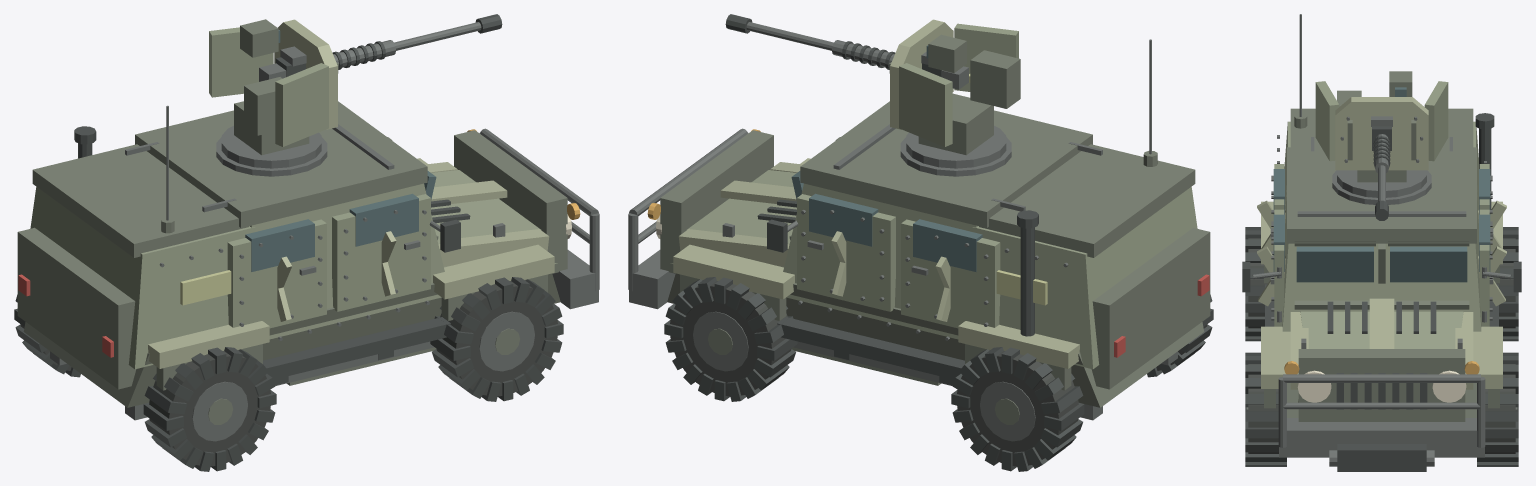
Rendered from aegis_hmmwv50_v2.glb.
The picture shows the model from 3 angles, left to right: view 1: azimuth 30°, elevation 25°; view 2: azimuth 150°, elevation 25°; view 3: azimuth 270°, elevation 25°; orthographic projection. The views are drawn at different scales.
Visible parts, largest first — view 1: RoofFront, RearBody, RoofRear, RearPlate, LowerTub, DoorPanel_FR, DoorPanel_RR, FrontFace, RockerStep_R, Tire_RR, GunShield_R, Tire_FR (+25 smaller); view 2: RoofFront, RoofRear, RearBody, RearPlate, LowerTub, DoorPanel_FL, DoorPanel_RL, FrontFace, RockerStep_L, Tire_RL, GunShield_L, Tire_FL (+26 smaller); view 3: RoofFront, FrontFace, CabinCore, FrontBumper, GunShieldFront, HoodMain, Windshield_L, Windshield_R, BumperCenter, RoofRear, BrushTop, FenderTop_L_1 (+44 smaller).
Part boxes in pixels (x1,y1,x2,y2): RoofFront: (135,101,427,227); RearBody: (30,187,255,369); RoofRear: (32,144,248,257); RearPlate: (17,227,136,389); LowerTub: (23,273,560,407); DoorPanel_FR: (332,194,430,311); DoorPanel_RR: (227,219,326,328); FrontFace: (454,130,567,273); RockerStep_R: (263,317,450,379); Tire_RR: (149,351,270,466); GunShield_R: (275,63,328,146); Tire_FR: (436,281,557,396); RoofFront: (800,101,1092,227); RoofRear: (979,144,1195,257); RearBody: (972,187,1197,369); RearPlate: (1091,227,1210,389); LowerTub: (667,273,1204,407); DoorPanel_FL: (797,194,895,311); DoorPanel_RL: (901,219,1000,328); FrontFace: (660,130,773,273); RockerStep_L: (777,317,964,379); Tire_RL: (957,351,1078,466); GunShield_L: (899,63,952,146); Tire_FL: (670,281,791,396); RoofFront: (1287,147,1476,243); FrontFace: (1298,349,1465,421); CabinCore: (1282,192,1481,331); FrontBumper: (1279,418,1484,457); GunShieldFront: (1335,97,1428,170); HoodMain: (1298,311,1465,402); Windshield_L: (1390,246,1467,282); Windshield_R: (1296,246,1373,282); BumperCenter: (1337,444,1426,471); RoofRear: (1290,108,1473,147); BrushTop: (1283,374,1480,382); FenderTop_L_1: (1473,326,1502,388).
Bounding box in the file's own units: 5.14 × 3.49 × 2.82.
